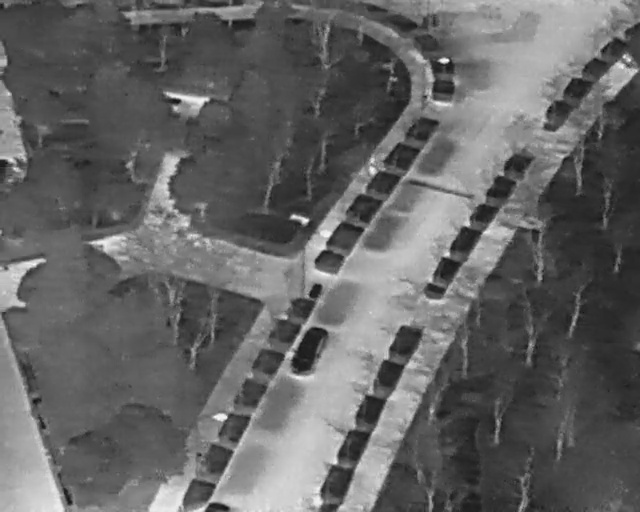Car: (284, 318, 333, 382), (202, 497, 233, 510)
Person: (614, 50, 629, 70), (367, 155, 379, 178), (626, 57, 634, 72)
